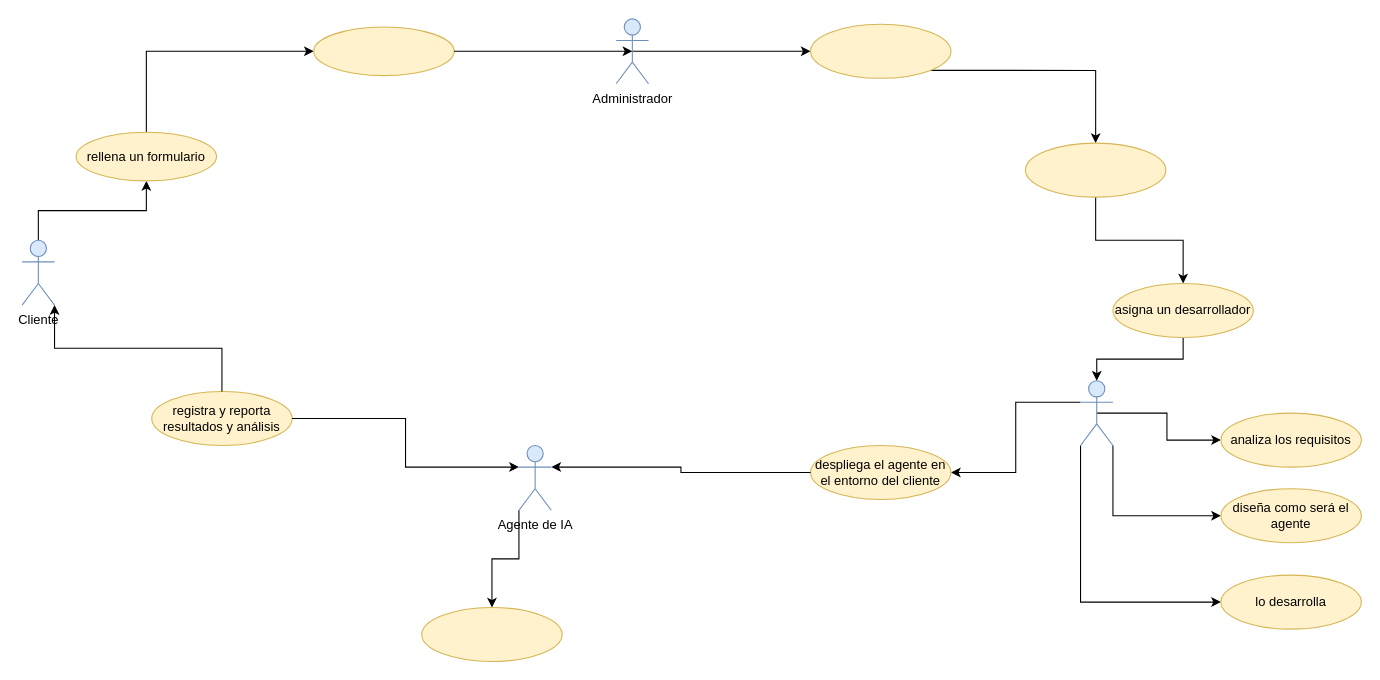
Image size: 1380x680. Some labels were removed from this diagram. Each missing label, with the centre of its shape:
"aprueba la solicitud" goes at pixel 1095 169.
"Desarrollador" goes at pixel 1096 413.
"ejecuta las tareas automáticas" goes at pixel 491 634.
"envia la solicitud" goes at pixel 383 51.
"revisa la solicitud" goes at pixel 880 50.
